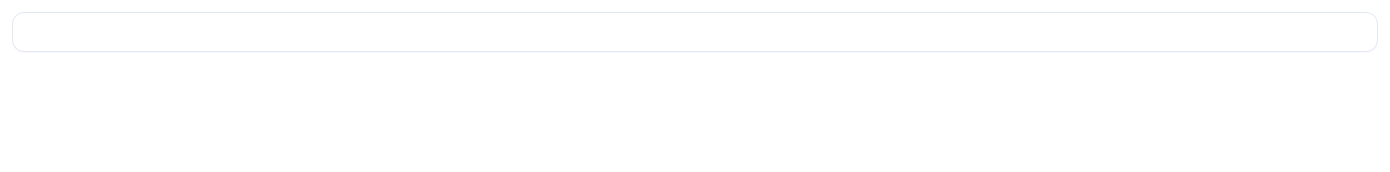
Scenario: Input Component › Form Integration › respects maxLength attribute
This screenshot has width=1390, height=172.
In the field with test id "input": (695,32) top-left (12, 12), bottom-right (1378, 52), type "1234567890"
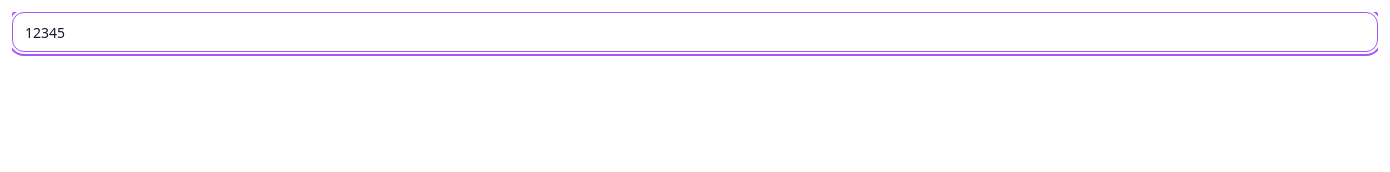
Result: the field with test id "input" holds "12345" at top-left (12, 12), bottom-right (1378, 52)
